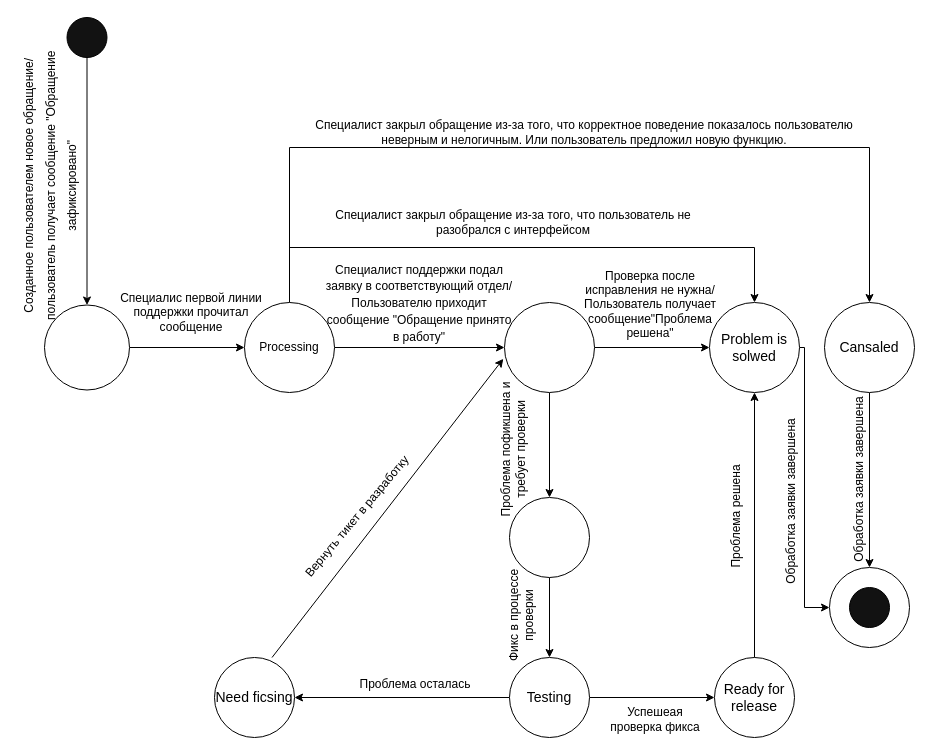
Image size: 933x755. Some labels were removed from this diagram. Each missing label, with the centre of its shape:
"In work" belongs at (549,347).
"New" belongs at (87,347).
"Ready for test" belongs at (549,537).
